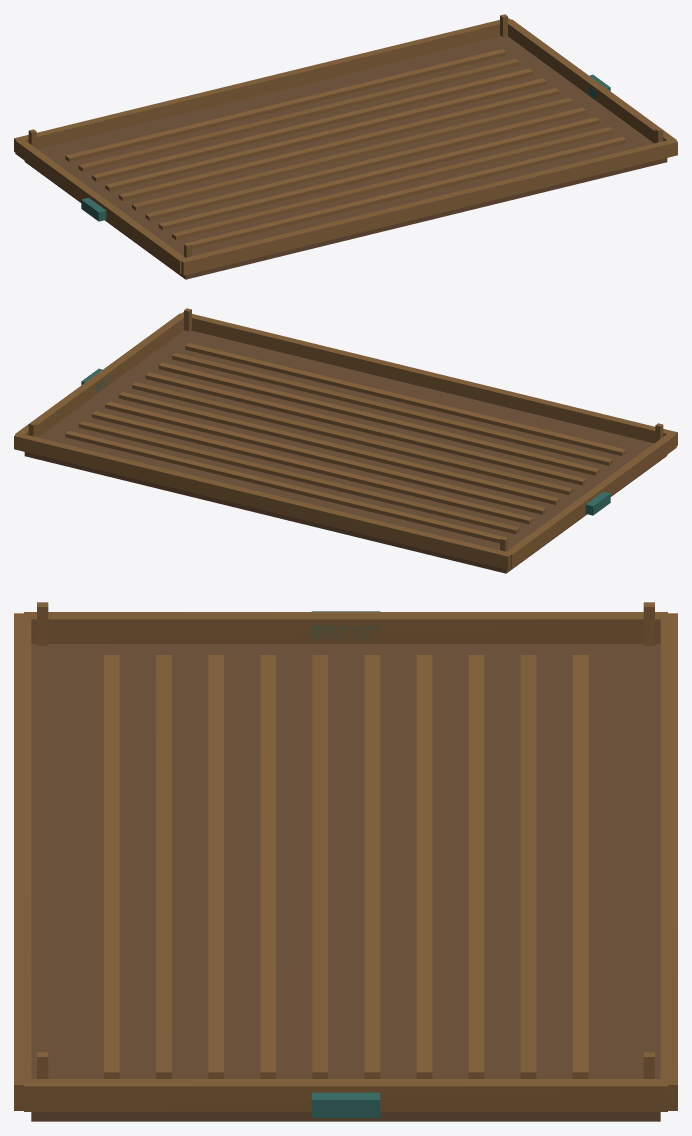
File: Field.glb
The picture shows the model from 3 angles, top to bottom: view 1: azimuth 30°, elevation 25°; view 2: azimuth 150°, elevation 25°; view 3: azimuth 270°, elevation 25°; orthographic projection. The views are drawn at different scales.
Visible parts, largest first — view 1: wind-pump-static-field-berm-mat, wind-pump-static-field-soil-mat, wind-pump-static-field-irrigation-marker-mat; view 2: wind-pump-static-field-berm-mat, wind-pump-static-field-soil-mat, wind-pump-static-field-irrigation-marker-mat; view 3: wind-pump-static-field-soil-mat, wind-pump-static-field-berm-mat, wind-pump-static-field-irrigation-marker-mat.
Part boxes in pixels (x1=…): wind-pump-static-field-berm-mat: x1=14, y1=14, x2=677, y2=275; wind-pump-static-field-soil-mat: x1=24, y1=36, x2=667, y2=279; wind-pump-static-field-irrigation-marker-mat: x1=81, y1=74, x2=610, y2=221; wind-pump-static-field-berm-mat: x1=14, y1=308, x2=677, y2=569; wind-pump-static-field-soil-mat: x1=24, y1=330, x2=667, y2=573; wind-pump-static-field-irrigation-marker-mat: x1=81, y1=368, x2=610, y2=515; wind-pump-static-field-soil-mat: x1=31, y1=644, x2=660, y2=1121; wind-pump-static-field-berm-mat: x1=14, y1=602, x2=677, y2=1111; wind-pump-static-field-irrigation-marker-mat: x1=311, y1=611, x2=380, y2=1117.
Size of the model in its own units: 4.04 by 0.24 by 2.32.
